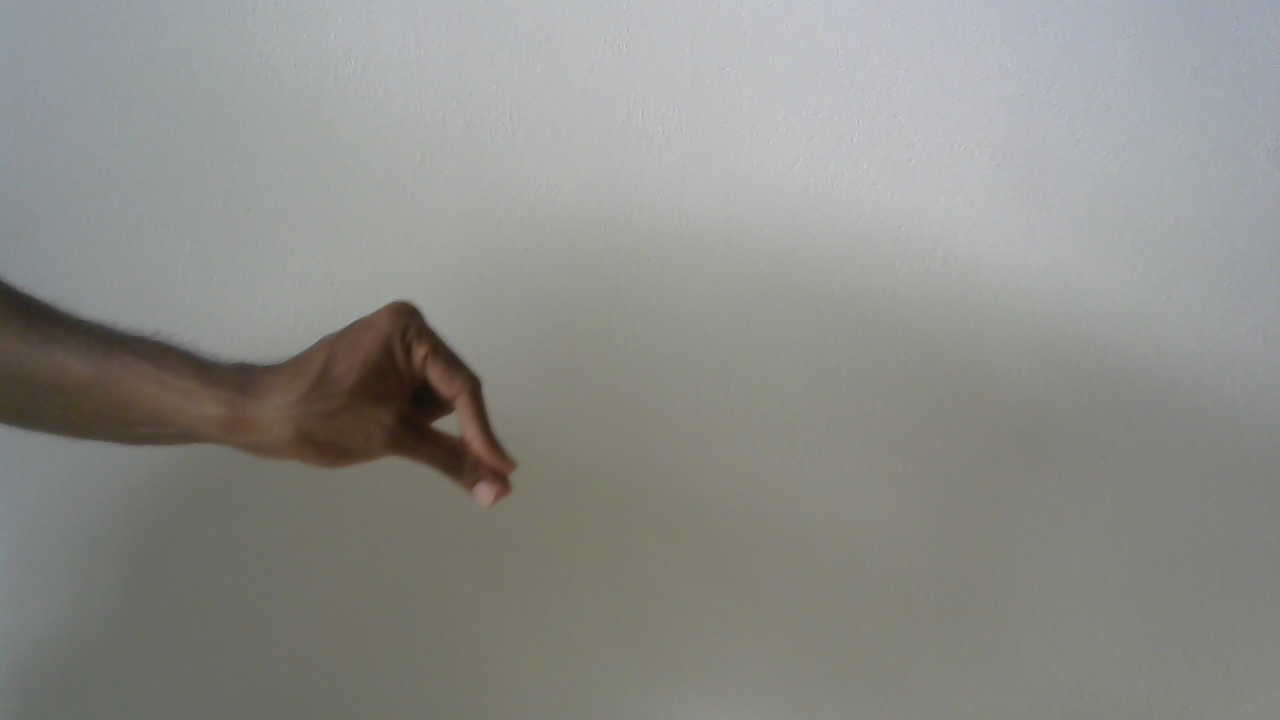no: (239, 282, 542, 527)
